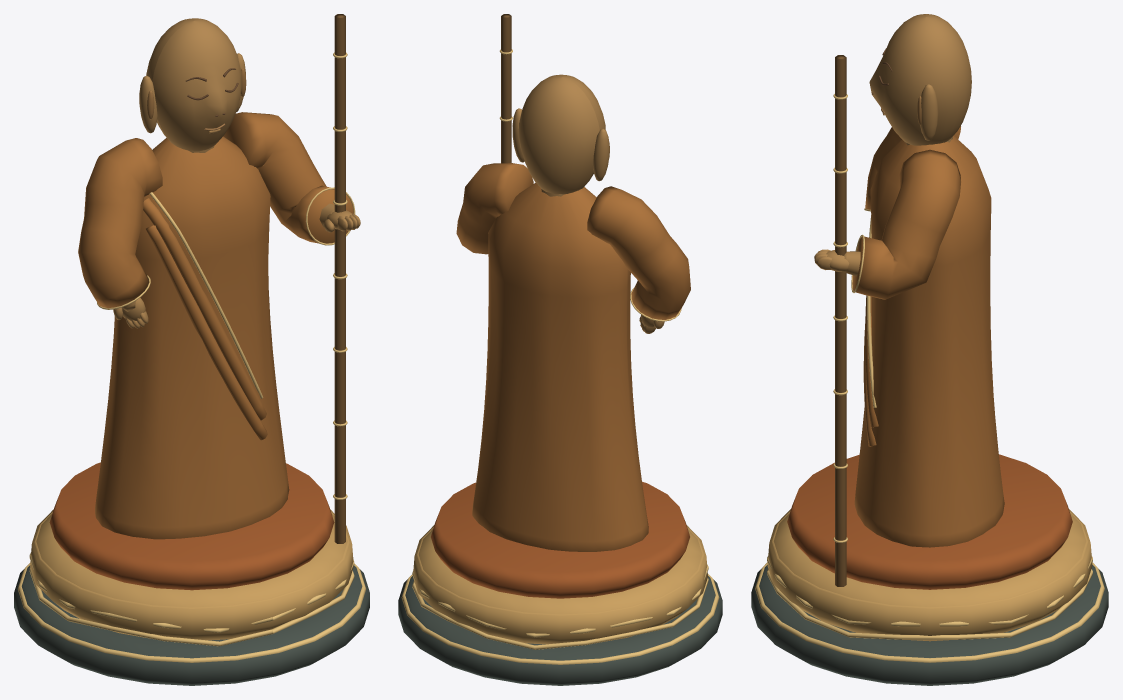
File: arhat_08_lod1.glb
3 views of the same model, side by side, from view 1: azimuth 30°, elevation 25°; view 2: azimuth 150°, elevation 25°; view 3: azimuth 270°, elevation 25° (orthographic). The views are drawn at different scales.
Parts seen in each view (by area): view 1: arhat_08_ArhatDrapery, arhat_08_SaffronDrapery, arhat_08_AntiqueGold, arhat_08_CarvedPlinth, arhat_08_WarmBronze, arhat_08_RaisedGoldBorders, arhat_08_CarvedBamboo; view 2: arhat_08_ArhatDrapery, arhat_08_SaffronDrapery, arhat_08_AntiqueGold, arhat_08_CarvedPlinth, arhat_08_WarmBronze, arhat_08_RaisedGoldBorders, arhat_08_CarvedBamboo; view 3: arhat_08_ArhatDrapery, arhat_08_SaffronDrapery, arhat_08_AntiqueGold, arhat_08_CarvedPlinth, arhat_08_WarmBronze, arhat_08_RaisedGoldBorders, arhat_08_CarvedBamboo.
Boxes of the visible parts, x1,y1,x2,y2 form: arhat_08_ArhatDrapery: (78, 112, 353, 539); arhat_08_SaffronDrapery: (49, 462, 334, 590); arhat_08_AntiqueGold: (30, 509, 353, 640); arhat_08_CarvedPlinth: (14, 565, 369, 685); arhat_08_WarmBronze: (113, 18, 360, 328); arhat_08_RaisedGoldBorders: (18, 52, 365, 662); arhat_08_CarvedBamboo: (334, 14, 345, 543); arhat_08_ArhatDrapery: (456, 163, 690, 551); arhat_08_SaffronDrapery: (431, 481, 689, 598); arhat_08_AntiqueGold: (413, 525, 707, 644); arhat_08_CarvedPlinth: (398, 576, 722, 685); arhat_08_WarmBronze: (512, 74, 664, 333); arhat_08_RaisedGoldBorders: (401, 49, 719, 664); arhat_08_CarvedBamboo: (501, 14, 511, 163); arhat_08_ArhatDrapery: (852, 126, 1004, 547); arhat_08_SaffronDrapery: (787, 454, 1072, 589); arhat_08_AntiqueGold: (767, 509, 1092, 641); arhat_08_CarvedPlinth: (751, 565, 1108, 685); arhat_08_WarmBronze: (814, 14, 971, 276); arhat_08_RaisedGoldBorders: (755, 94, 1104, 662); arhat_08_CarvedBamboo: (835, 55, 846, 586).
Size of the model in its own units: 0.92 by 1.73 by 0.92.
